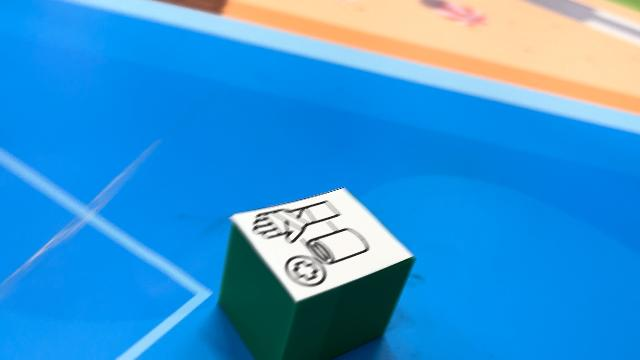bandage: (218, 185, 416, 358)
